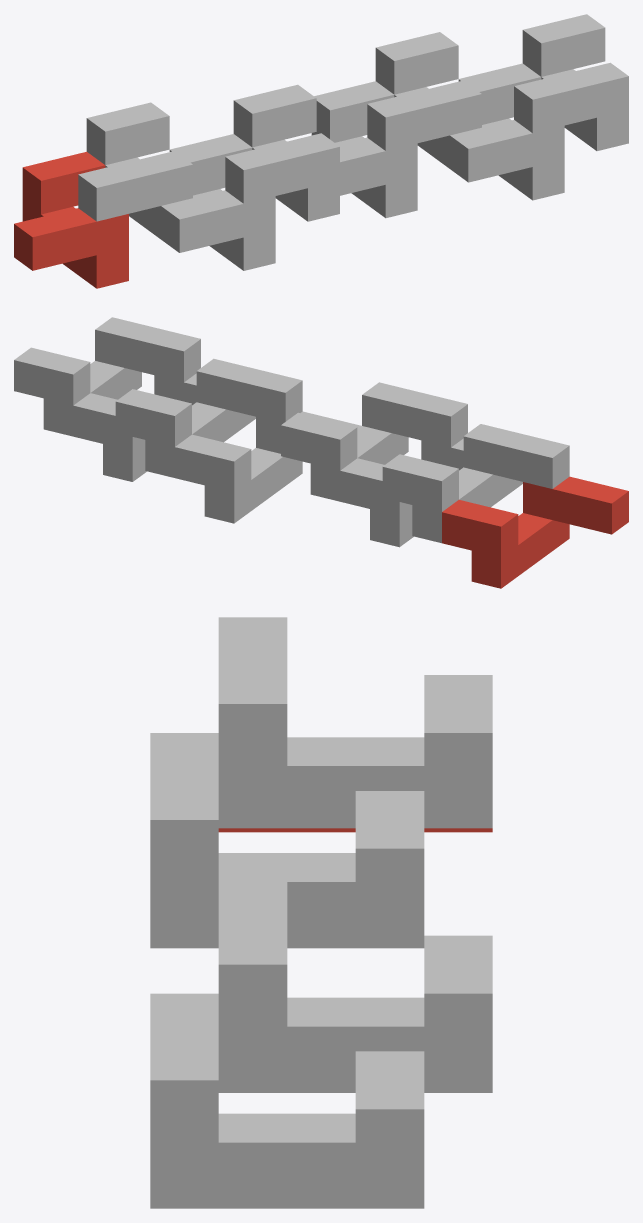
Rendered from tiling.obj.
3 views of the same model, one above another, from view 1: azimuth 30°, elevation 25°; view 2: azimuth 150°, elevation 25°; view 3: azimuth 270°, elevation 25° (orthographic). The views are drawn at different scales.
Visible parts, largest first — view 1: copy_1_domain_4, copy_1_domain_8, copy_1_domain_7, copy_1_domain_3, copy_1_domain_1, copy_1_domain_2, copy_1_domain_6, copy_1_domain_5; view 2: copy_1_domain_1, copy_1_domain_3, copy_1_domain_7, copy_1_domain_8, copy_1_domain_4, copy_1_domain_5, copy_1_domain_6, copy_1_domain_2; view 3: copy_1_domain_8, copy_1_domain_7, copy_1_domain_3, copy_1_domain_4, copy_1_domain_6, copy_1_domain_1, copy_1_domain_2, copy_1_domain_5.
Part boxes in pixels (<box>): copy_1_domain_4: <box>225,84,339,221</box>; copy_1_domain_8: <box>514,14,628,150</box>; copy_1_domain_7: <box>367,32,481,168</box>; copy_1_domain_3: <box>78,102,192,239</box>; copy_1_domain_1: <box>14,151,128,288</box>; copy_1_domain_2: <box>161,134,275,270</box>; copy_1_domain_6: <box>450,63,564,200</box>; copy_1_domain_5: <box>311,81,417,218</box>; copy_1_domain_1: <box>442,476,628,588</box>; copy_1_domain_3: <box>382,424,569,543</box>; copy_1_domain_7: <box>115,358,302,477</box>; copy_1_domain_8: <box>14,317,200,436</box>; copy_1_domain_4: <box>281,382,467,501</box>; copy_1_domain_5: <box>175,411,361,523</box>; copy_1_domain_6: <box>73,373,255,481</box>; copy_1_domain_2: <box>340,438,522,547</box>; copy_1_domain_8: <box>150,993,424,1204</box>; copy_1_domain_7: <box>218,877,492,1088</box>; copy_1_domain_3: <box>218,617,492,828</box>; copy_1_domain_4: <box>150,733,424,943</box>; copy_1_domain_6: <box>150,1204,424,1208</box>; copy_1_domain_1: <box>218,828,492,832</box>; copy_1_domain_2: <box>150,944,424,948</box>; copy_1_domain_5: <box>218,1088,492,1092</box>.
Size of the model in its own units: 19 by 3 by 5.
